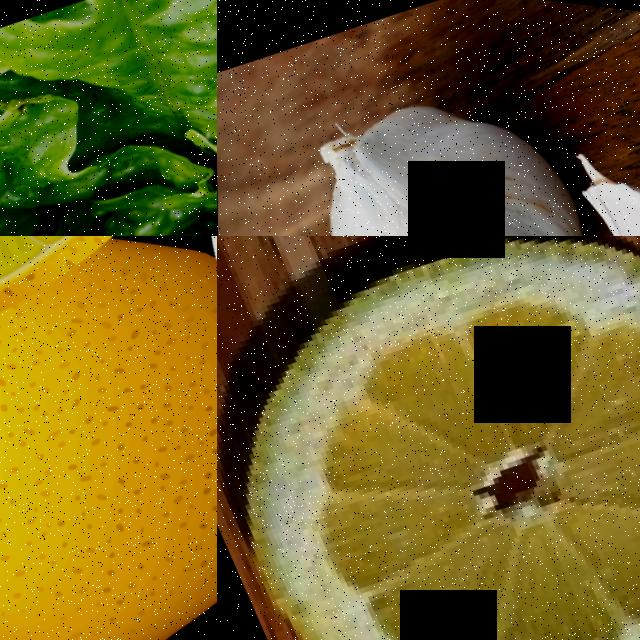garlic: (273, 29, 635, 236)
lemon: (217, 236, 640, 640), (0, 236, 217, 640), (0, 236, 217, 381)
lettuce: (0, 0, 217, 236)
